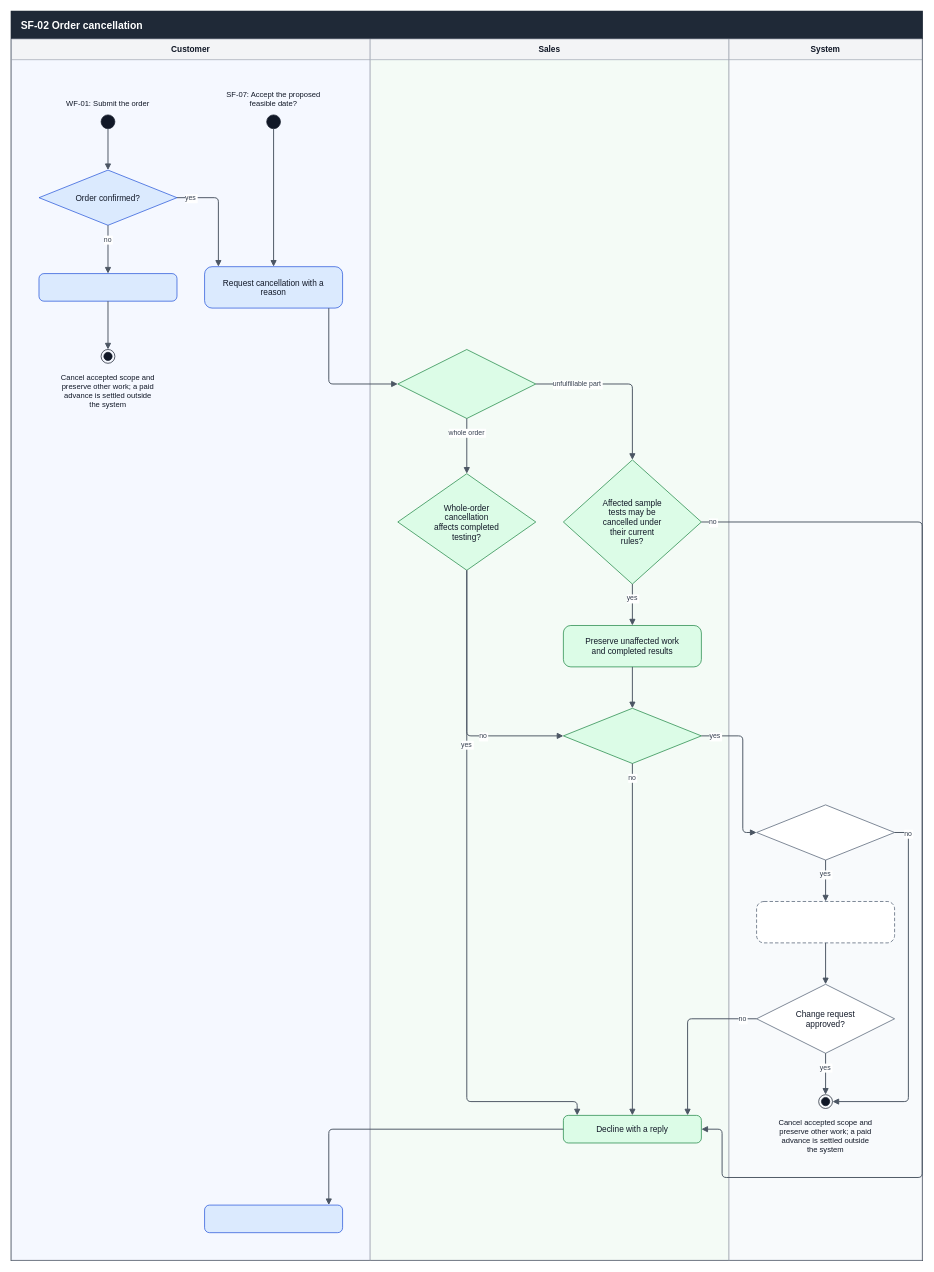
This 934x1272 diagram has some shape labels left out. The centre of each missing label's shape, as x and y in pixels:
"Accept?" belongs at (632,735).
"Cancel the order" belongs at (107,287).
"Cancellation scope?" belongs at (466,383).
"Read the reply on the order" belongs at (273,1218).
"Request the Head of Sales approval through a change request" belongs at (825,922).
"Samples collected?" belongs at (825,832).
